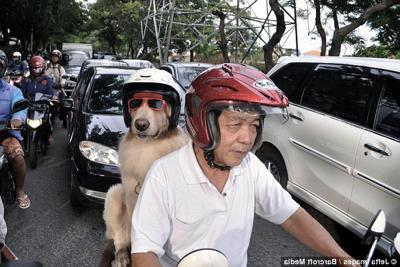With Helmet: (181, 53, 289, 169)
